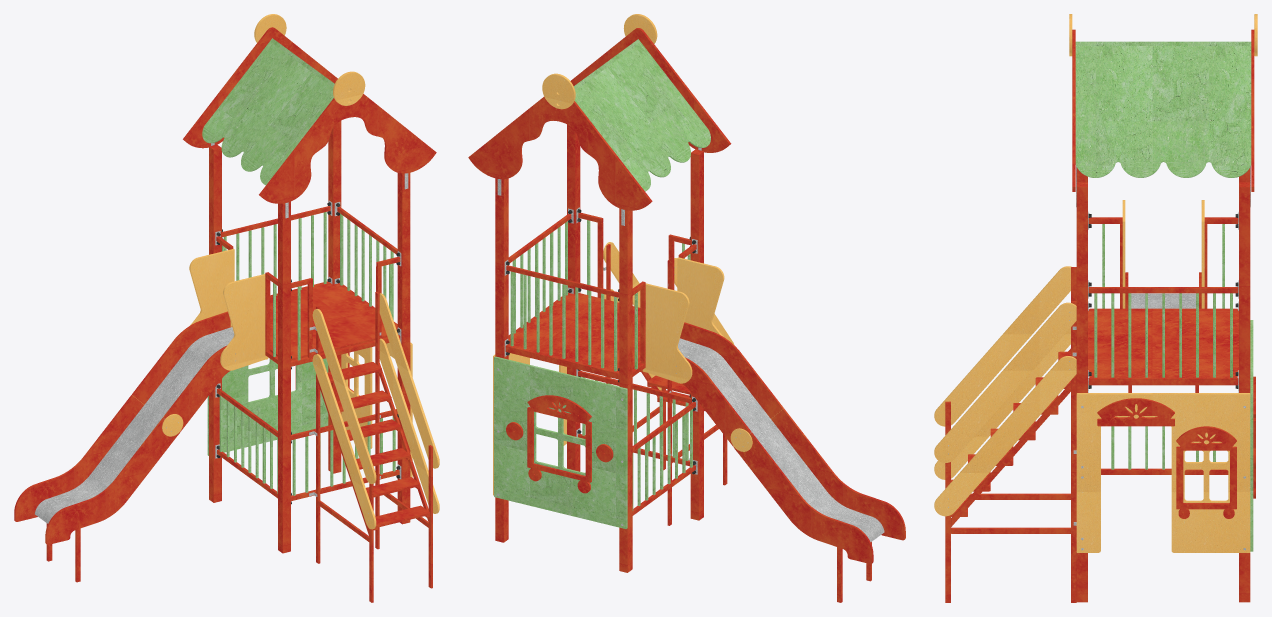
File: w_playground_slide.glb
3 renders of one model, left to right at view 1: azimuth 30°, elevation 25°; view 2: azimuth 150°, elevation 25°; view 3: azimuth 270°, elevation 25°, orthographic. The views are drawn at different scales.
Visible parts, largest first — view 1: Object_5, Object_3, Object_8, Object_4, Object_6, Object_7; view 2: Object_3, Object_5, Object_4, Object_8, Object_6, Object_7; view 3: Object_8, Object_3, Object_5, Object_4, Object_6, Object_7.
Part boxes in pixels (<box>): Object_5: <box>14,206,432,602</box>; Object_3: <box>202,38,395,495</box>; Object_8: <box>132,14,439,529</box>; Object_4: <box>209,121,429,553</box>; Object_6: <box>183,27,436,530</box>; Object_7: <box>35,143,408,523</box>; Object_3: <box>494,39,710,528</box>; Object_5: <box>505,212,905,602</box>; Object_4: <box>495,124,705,572</box>; Object_8: <box>493,14,782,495</box>; Object_6: <box>468,28,731,402</box>; Object_7: <box>497,147,884,541</box>; Object_8: <box>934,14,1257,552</box>; Object_3: <box>1075,41,1253,551</box>; Object_5: <box>945,217,1255,602</box>; Object_4: <box>951,167,1250,602</box>; Object_6: <box>951,29,1254,516</box>; Object_7: <box>948,166,1250,550</box>.
Bounding box in the file's own units: 1393 × 1752 × 901.
5 materials, 5 textured.
